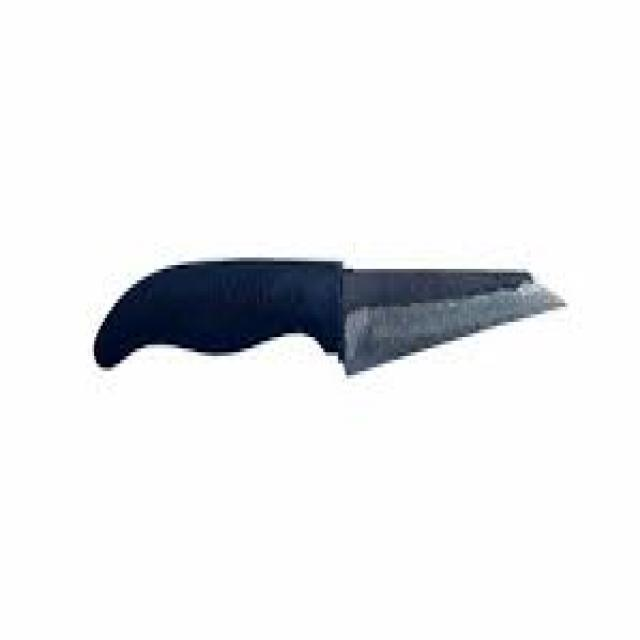Knife: (92, 254, 567, 375)
